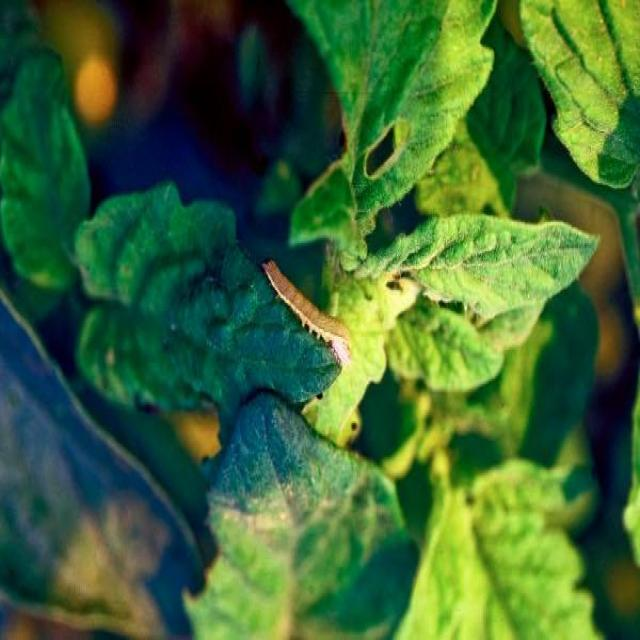BeetArmyWorm-Larva-: (261, 256, 358, 354)
